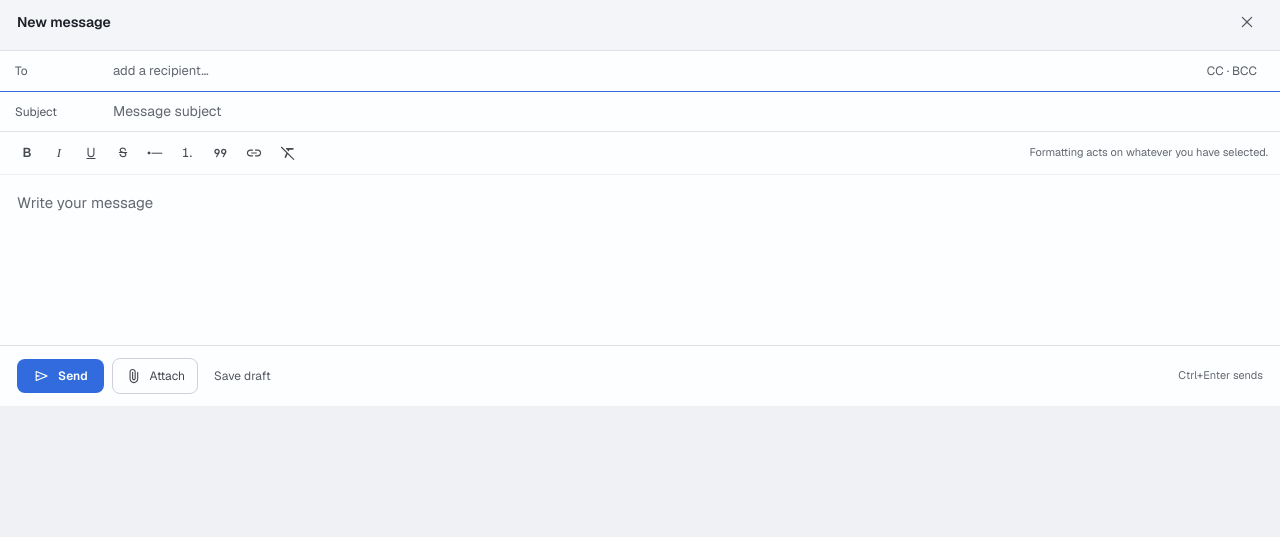
Composer, a message of its own › shows the copy headers and hides them again from one control, which says which it will do next
Click the button with aria-label "Show CC and BCC fields" at {"x": 1232, "y": 71}, box x1=1199 y1=60 x2=1265 y2=82
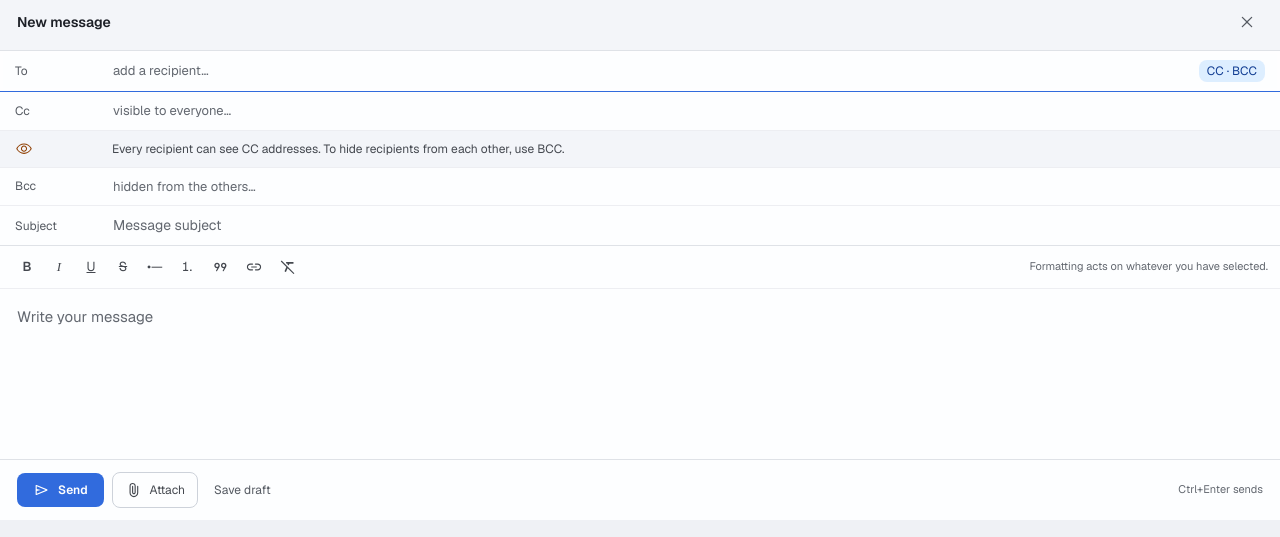
Now the dropdown labelled "Cc" is shown, box x1=113 y1=101 x2=1265 y2=120
Now the dropdown labelled "Bcc" is shown, box x1=113 y1=176 x2=1265 y2=196
Now the text "Every recipient can see CC addresses" is shown, box x1=112 y1=140 x2=564 y2=156
Click the button with aria-label "Hide CC and BCC fields" at {"x": 1232, "y": 71}, box x1=1199 y1=60 x2=1265 y2=82
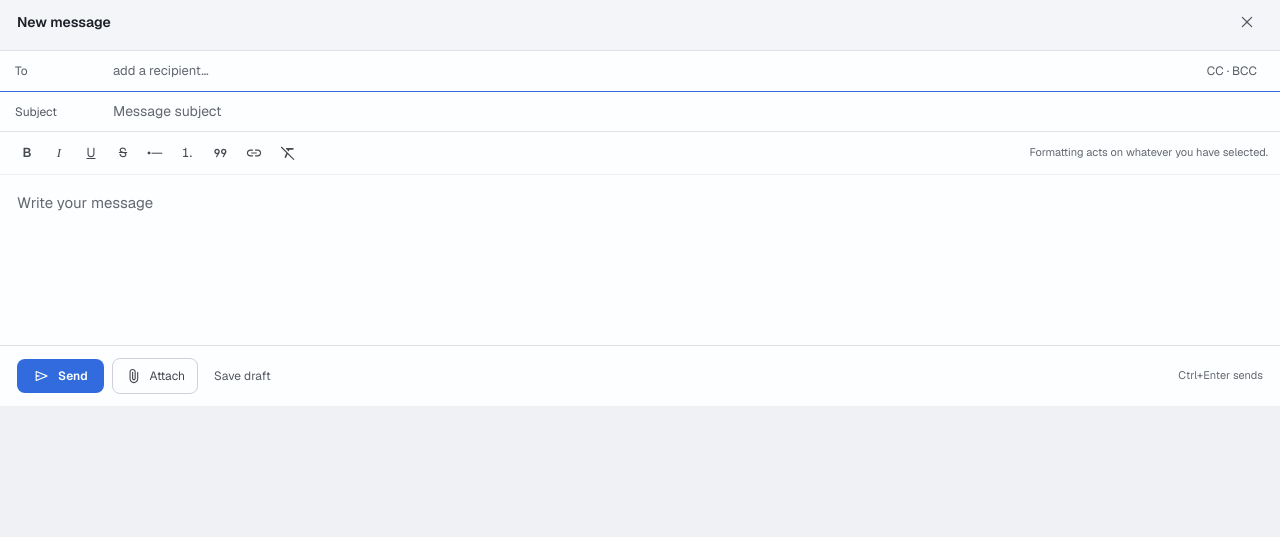
Now the text "Every recipient can see CC addresses" is gone
